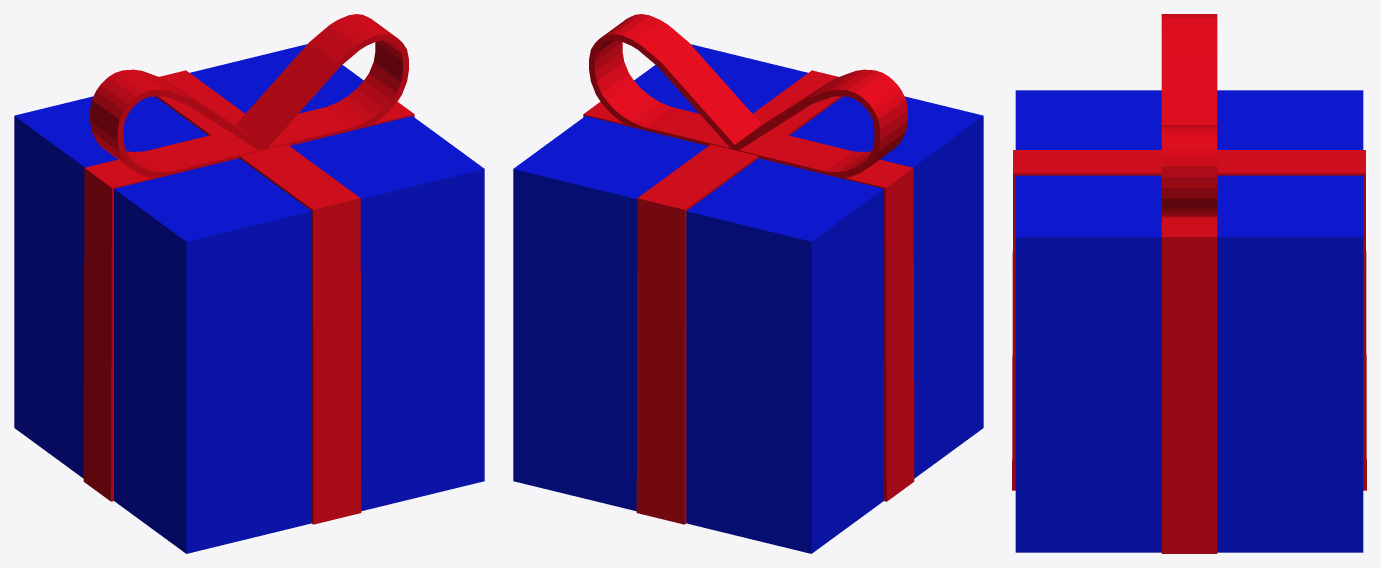
Rendered from gift.fbx.
3 renders of one model, left to right at view 1: azimuth 30°, elevation 25°; view 2: azimuth 150°, elevation 25°; view 3: azimuth 270°, elevation 25°, orthographic.
Parts seen in each view (by area): view 1: Cube.008; view 2: Cube.008; view 3: Cube.008.
Boxes of the visible parts, left/top/right/bottom form: Cube.008: left=14, top=14, right=484, bottom=553; Cube.008: left=513, top=14, right=983, bottom=553; Cube.008: left=1012, top=14, right=1366, bottom=553.
Bounding box in the file's own units: 102 × 129 × 102.
